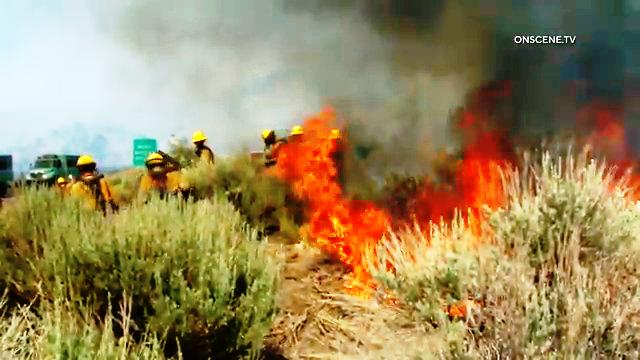fire: (285, 129, 387, 293), (405, 144, 520, 262)
smoke: (277, 2, 492, 109)
